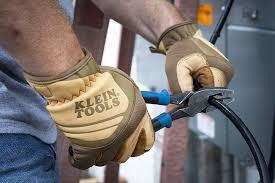gloves: (22, 47, 156, 170), (149, 20, 235, 91)
